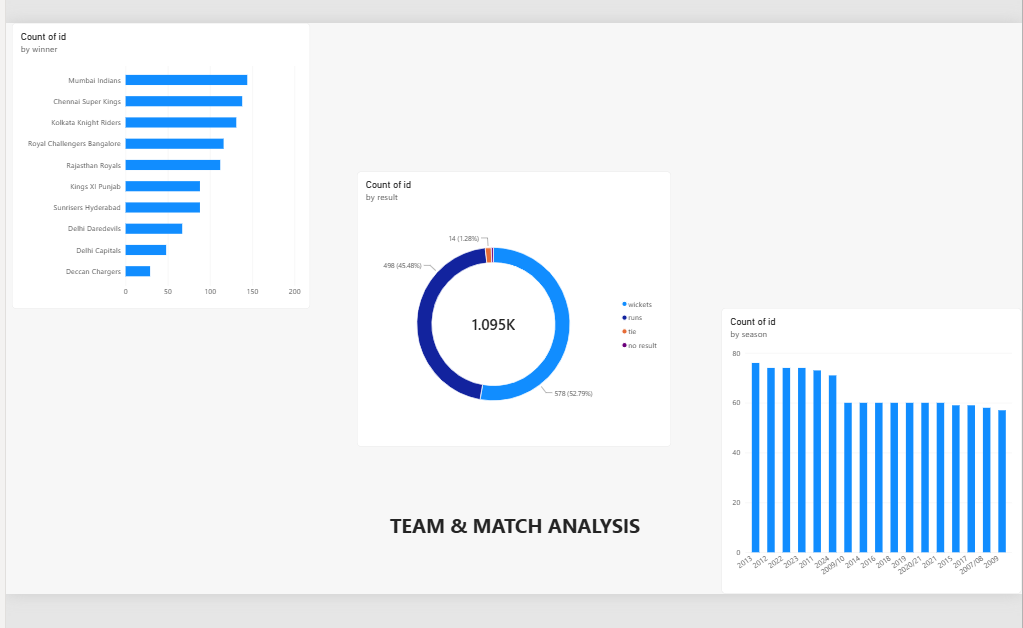

The page's visual inventory and layout, read from the dashboard file:
{"tool":"powerbi","page":{"name":"TEAM & MATCH ANALYSIS.","canvas":[1920,1080],"ordinal":2},"visuals":[{"type":"clusteredBarChart","fields":{"Category":["public matches.winner"],"Y":["CountNonNull(public matches.id)"]},"box":[10,0,563.3,540],"z":0},{"type":"donutChart","fields":{"Category":["public matches.result"],"Y":["CountNonNull(public matches.id)"]},"box":[663.3,280,593.3,520],"z":1},{"type":"clusteredColumnChart","fields":{"Category":["public matches.season"],"Y":["CountNonNull(public matches.id)"]},"box":[1353.3,540,566.7,540],"z":2},{"type":"textbox","box":[10,540,563,540],"z":3},{"type":"textbox","box":[663,800,593,280],"z":4}]}

Visuals, with their boxes on the page's 1920x1080 design canvas (x1, y1, x2, y2). These are canvas units, not pixel positions in the 1023x628 screenshot, which may show the page scaled, cropped or inside an application window:
clusteredBarChart - public matches.winner x CountNonNull(public matches.id): bbox=(10, 0, 573, 540)
donutChart - public matches.result x CountNonNull(public matches.id): bbox=(663, 280, 1257, 800)
clusteredColumnChart - public matches.season x CountNonNull(public matches.id): bbox=(1353, 540, 1920, 1080)
textbox: bbox=(10, 540, 573, 1080)
textbox: bbox=(663, 800, 1256, 1080)
